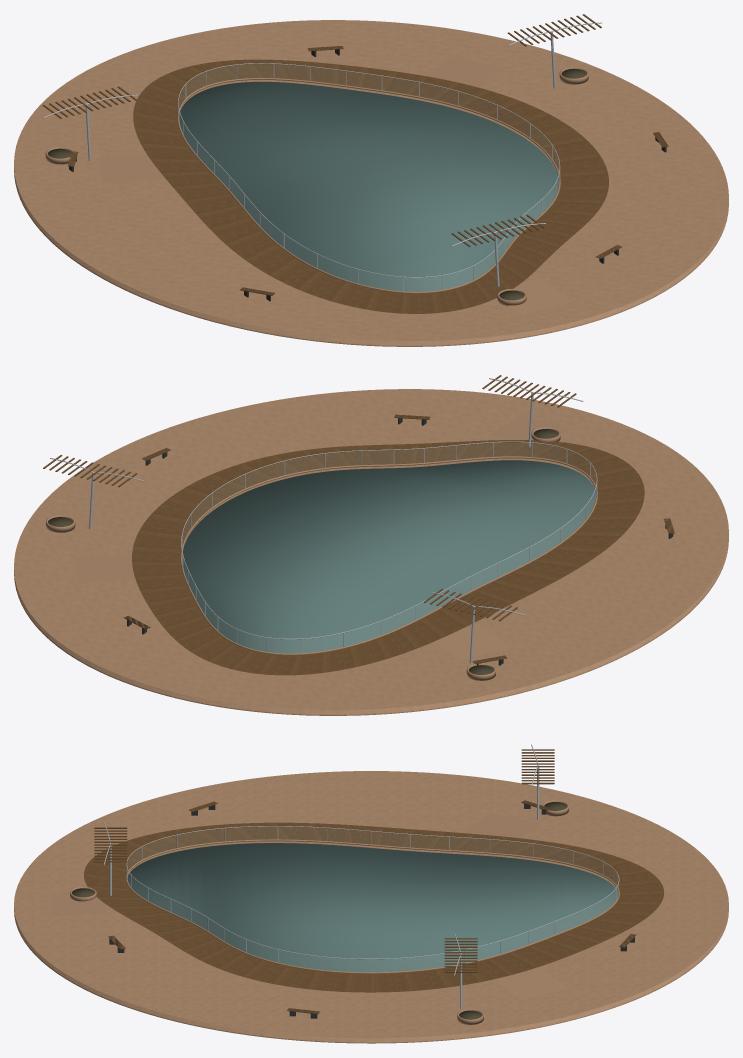
The model's file is water_landmark_structure.glb.
3 renders of one model, top to bottom at view 1: azimuth 30°, elevation 25°; view 2: azimuth 150°, elevation 25°; view 3: azimuth 270°, elevation 25°, orthographic. The views are drawn at different scales.
Parts seen in each view (by area): view 1: water_landmark_structure_Landmark_warm_limestone, water_landmark_structure_Landmark_reflection_basin, water_landmark_structure_CC0_Oak_veneer, water_landmark_structure_Landmark_laminated_guard, water_landmark_structure_Brushed_stainless, water_landmark_structure_Landmark_planting_soil; view 2: water_landmark_structure_Landmark_warm_limestone, water_landmark_structure_Landmark_reflection_basin, water_landmark_structure_CC0_Oak_veneer, water_landmark_structure_Landmark_laminated_guard, water_landmark_structure_Brushed_stainless, water_landmark_structure_Landmark_planting_soil; view 3: water_landmark_structure_Landmark_warm_limestone, water_landmark_structure_Landmark_reflection_basin, water_landmark_structure_CC0_Oak_veneer, water_landmark_structure_Landmark_laminated_guard, water_landmark_structure_Brushed_stainless, water_landmark_structure_Landmark_planting_soil.
Part boxes in pixels (x1,y1,x2,y2): water_landmark_structure_Landmark_warm_limestone: [14, 20, 728, 346]; water_landmark_structure_Landmark_reflection_basin: [179, 82, 558, 291]; water_landmark_structure_CC0_Oak_veneer: [42, 14, 668, 313]; water_landmark_structure_Landmark_laminated_guard: [179, 65, 559, 290]; water_landmark_structure_Brushed_stainless: [43, 22, 602, 291]; water_landmark_structure_Landmark_planting_soil: [47, 68, 586, 300]; water_landmark_structure_Landmark_warm_limestone: [14, 389, 728, 715]; water_landmark_structure_Landmark_reflection_basin: [183, 460, 595, 653]; water_landmark_structure_CC0_Oak_veneer: [43, 375, 674, 675]; water_landmark_structure_Landmark_laminated_guard: [183, 443, 595, 652]; water_landmark_structure_Brushed_stainless: [50, 378, 597, 663]; water_landmark_structure_Landmark_planting_soil: [48, 429, 558, 674]; water_landmark_structure_Landmark_warm_limestone: [14, 771, 728, 1043]; water_landmark_structure_Landmark_reflection_basin: [127, 843, 617, 972]; water_landmark_structure_CC0_Oak_veneer: [84, 749, 664, 1014]; water_landmark_structure_Landmark_laminated_guard: [127, 827, 618, 971]; water_landmark_structure_Brushed_stainless: [103, 744, 619, 1008]; water_landmark_structure_Landmark_planting_soil: [72, 802, 566, 1019].
Size of the model in its own units: 46 by 4.77 by 52.
7 materials, 2 textured.
